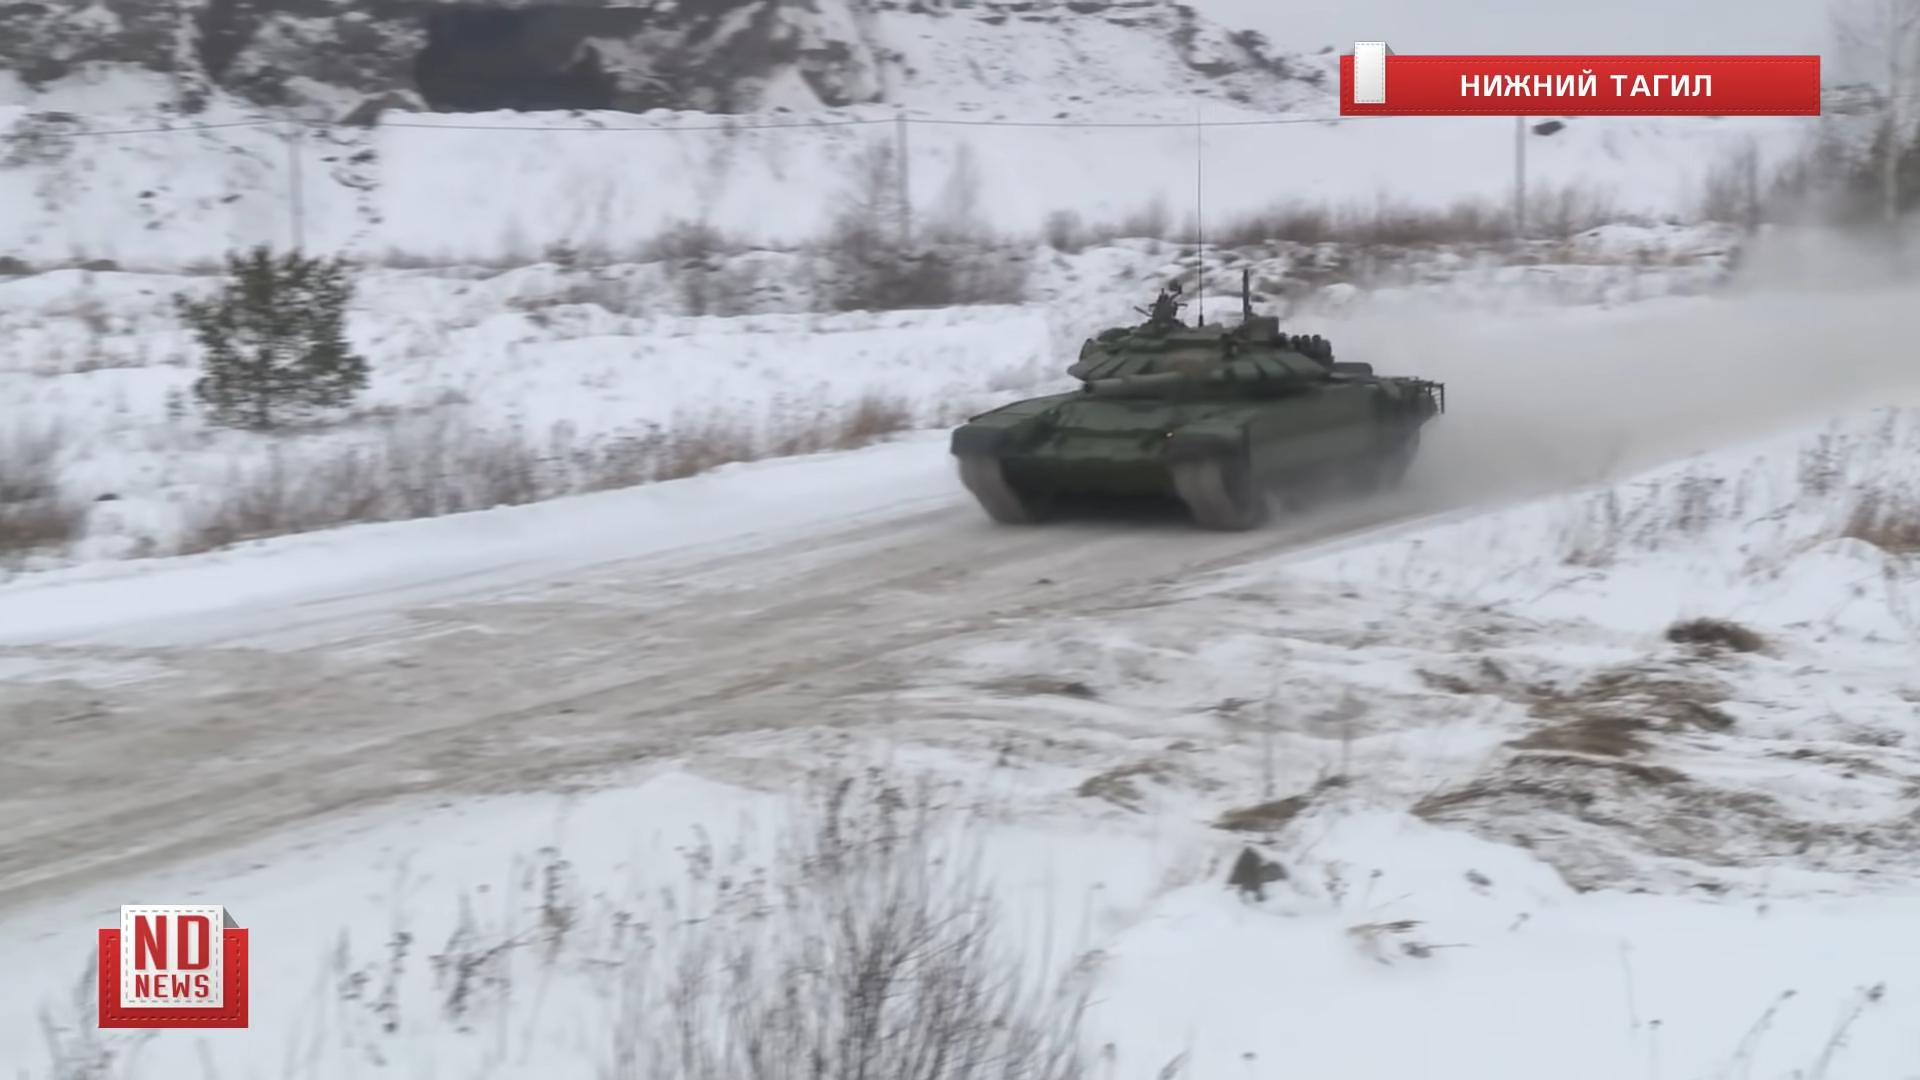tank: (947, 318, 1447, 524)
